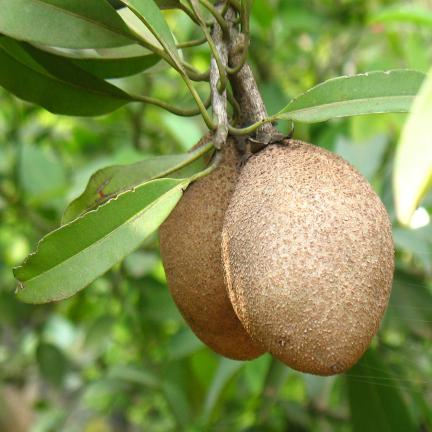kiwi: (222, 141, 394, 375), (160, 138, 264, 360)
